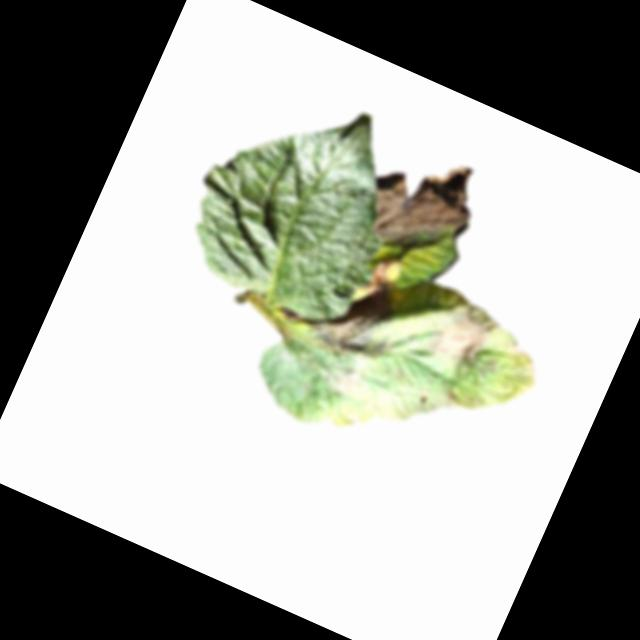Late_blight: (354, 134, 490, 274), (303, 273, 406, 373), (424, 291, 504, 372), (307, 351, 375, 407), (361, 247, 404, 299), (501, 334, 529, 363), (343, 406, 369, 430)
healthy: (172, 62, 428, 331)
